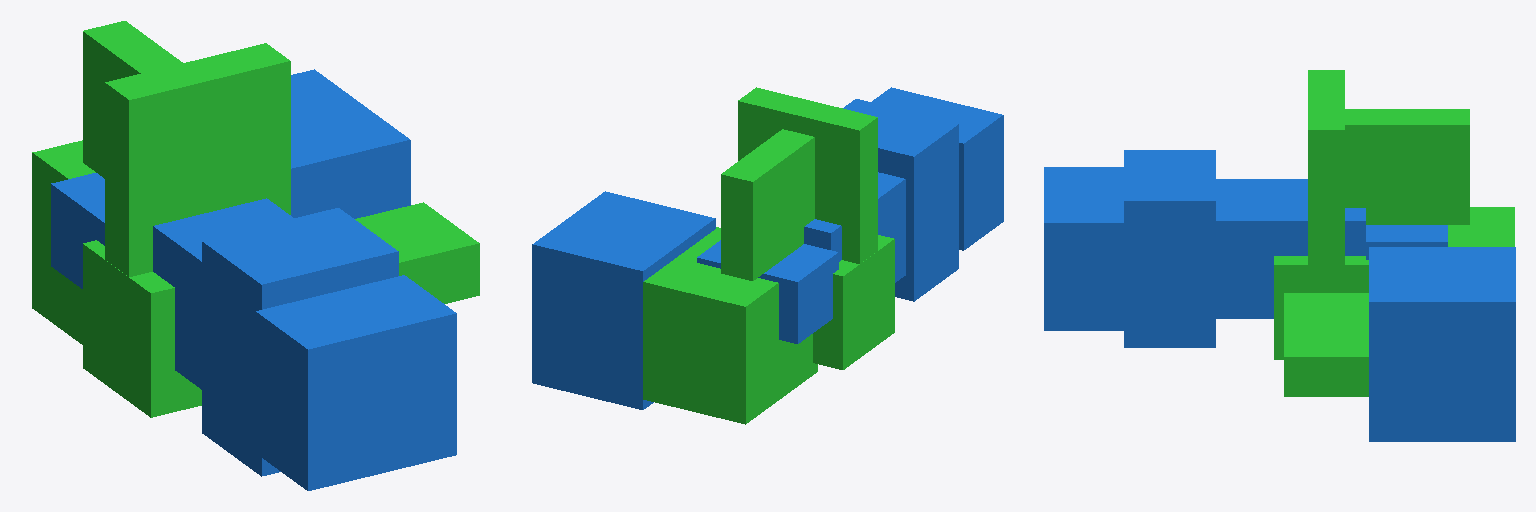
robot.urdf — robot:
<robot name = "robot">
    <link name="Link0">
        <inertial>
            <origin xyz="0 0 2" rpy="0 0 0"/>
            <mass value="0.9914396320413821" />
            <inertia ixx="100" ixy="0" ixz="0" iyy="100" iyz="0" izz="100" />
        </inertial>
        <visual>
            <origin xyz="0 0 2" rpy="0 0 0"/>
            <geometry>
                <box size="0.9045375346228315 1.1042582098426466 0.9925880576965468" />
            </geometry>
            <material name="Sensor">
                <color rgba="0.239 0.875 0.282 1.0"/>
            </material>
        </visual>
        <collision>
            <origin xyz="0 0 2" rpy="0 0 0"/>
            <geometry>
                <box size="0.9045375346228315 1.1042582098426466 0.9925880576965468" />
            </geometry>
        </collision>
    </link>
    <joint name="Link0_Link1" type="revolute">
       <parent link="Link0"/>
       <child  link="Link1"/>
       <origin rpy="0 0 0" xyz="0.45226876731141574 0 2" />
       <axis xyz="1 0 0"/>
       <limit effort="0.0" lower="-3.14159" upper="3.14159" velocity="0.0"/>
    </joint>
    <link name="Link1">
        <inertial>
            <origin xyz="0.48855059420183844 0 0" rpy="0 0 0"/>
            <mass value="1.2708323924499392" />
            <inertia ixx="100" ixy="0" ixz="0" iyy="100" iyz="0" izz="100" />
        </inertial>
        <visual>
            <origin xyz="0.48855059420183844 0 0" rpy="0 0 0"/>
            <geometry>
                <box size="0.9771011884036769 1.1087907562669648 1.1730030407536653" />
            </geometry>
            <material name="No Sensor">
                <color rgba="0.184 0.553 0.933 1.0"/>
            </material>
        </visual>
        <collision>
            <origin xyz="0.48855059420183844 0 0" rpy="0 0 0"/>
            <geometry>
                <box size="0.9771011884036769 1.1087907562669648 1.1730030407536653" />
            </geometry>
        </collision>
    </link>
    <joint name="Link1_Link2" type="revolute">
       <parent link="Link1"/>
       <child  link="Link2"/>
       <origin rpy="0 0 0" xyz="0.48855059420183844 -0.5543953781334824 0.0" />
       <axis xyz="1 0 0"/>
       <limit effort="0.0" lower="-3.14159" upper="3.14159" velocity="0.0"/>
    </joint>
    <link name="Link2">
        <inertial>
            <origin xyz="0.0 -0.32287513078259034 0.0" rpy="0 0 0"/>
            <mass value="0.24849625987360338" />
            <inertia ixx="100" ixy="0" ixz="0" iyy="100" iyz="0" izz="100" />
        </inertial>
        <visual>
            <origin xyz="0.0 -0.32287513078259034 0.0" rpy="0 0 0"/>
            <geometry>
                <box size="1.1520760015248446 0.6457502615651807 0.3340212797987252" />
            </geometry>
            <material name="Sensor">
                <color rgba="0.239 0.875 0.282 1.0"/>
            </material>
        </visual>
        <collision>
            <origin xyz="0.0 -0.32287513078259034 0.0" rpy="0 0 0"/>
            <geometry>
                <box size="1.1520760015248446 0.6457502615651807 0.3340212797987252" />
            </geometry>
        </collision>
    </link>
    <joint name="Link2_Link3" type="revolute">
       <parent link="Link2"/>
       <child  link="Link3"/>
       <origin rpy="0 0 0" xyz="-0.5760380007624223 -0.32287513078259034 0.0" />
       <axis xyz="0 1 0"/>
       <limit effort="0.0" lower="-3.14159" upper="3.14159" velocity="0.0"/>
    </joint>
    <link name="Link3">
        <inertial>
            <origin xyz="-0.5397868592290745 0.0 0.0" rpy="0 0 0"/>
            <mass value="0.6746190000611122" />
            <inertia ixx="100" ixy="0" ixz="0" iyy="100" iyz="0" izz="100" />
        </inertial>
        <visual>
            <origin xyz="-0.5397868592290745 0.0 0.0" rpy="0 0 0"/>
            <geometry>
                <box size="1.079573718458149 0.7889315533076343 0.792076154739123" />
            </geometry>
            <material name="Sensor">
                <color rgba="0.239 0.875 0.282 1.0"/>
            </material>
        </visual>
        <collision>
            <origin xyz="-0.5397868592290745 0.0 0.0" rpy="0 0 0"/>
            <geometry>
                <box size="1.079573718458149 0.7889315533076343 0.792076154739123" />
            </geometry>
        </collision>
    </link>
    <joint name="Link3_Link4" type="revolute">
       <parent link="Link3"/>
       <child  link="Link4"/>
       <origin rpy="0 0 0" xyz="-0.5397868592290745 0.0 0.3960380773695615" />
       <axis xyz="0 1 0"/>
       <limit effort="0.0" lower="-3.14159" upper="3.14159" velocity="0.0"/>
    </joint>
    <link name="Link4">
        <inertial>
            <origin xyz="0.0 0.0 0.5639802093625783" rpy="0 0 0"/>
            <mass value="0.34197779045058574" />
            <inertia ixx="100" ixy="0" ixz="0" iyy="100" iyz="0" izz="100" />
        </inertial>
        <visual>
            <origin xyz="0.0 0.0 0.5639802093625783" rpy="0 0 0"/>
            <geometry>
                <box size="1.0751753305664196 0.2819841843757739 1.1279604187251566" />
            </geometry>
            <material name="Sensor">
                <color rgba="0.239 0.875 0.282 1.0"/>
            </material>
        </visual>
        <collision>
            <origin xyz="0.0 0.0 0.5639802093625783" rpy="0 0 0"/>
            <geometry>
                <box size="1.0751753305664196 0.2819841843757739 1.1279604187251566" />
            </geometry>
        </collision>
    </link>
    <joint name="Link4_Link5" type="revolute">
       <parent link="Link4"/>
       <child  link="Link5"/>
       <origin rpy="0 0 0" xyz="0.0 0.14099209218788694 0.5639802093625783" />
       <axis xyz="1 0 0"/>
       <limit effort="0.0" lower="-3.14159" upper="3.14159" velocity="0.0"/>
    </joint>
    <link name="Link5">
        <inertial>
            <origin xyz="0.0 0.47159727918919403 0.0" rpy="0 0 0"/>
            <mass value="0.22483547274269802" />
            <inertia ixx="100" ixy="0" ixz="0" iyy="100" iyz="0" izz="100" />
        </inertial>
        <visual>
            <origin xyz="0.0 0.47159727918919403 0.0" rpy="0 0 0"/>
            <geometry>
                <box size="0.2846340013377203 0.9431945583783881 0.8374844793504092" />
            </geometry>
            <material name="Sensor">
                <color rgba="0.239 0.875 0.282 1.0"/>
            </material>
        </visual>
        <collision>
            <origin xyz="0.0 0.47159727918919403 0.0" rpy="0 0 0"/>
            <geometry>
                <box size="0.2846340013377203 0.9431945583783881 0.8374844793504092" />
            </geometry>
        </collision>
    </link>
    <joint name="Link5_Link6" type="revolute">
       <parent link="Link5"/>
       <child  link="Link6"/>
       <origin rpy="0 0 0" xyz="0.0 0.47159727918919403 -0.4187422396752046" />
       <axis xyz="1 0 0"/>
       <limit effort="0.0" lower="-3.14159" upper="3.14159" velocity="0.0"/>
    </joint>
    <link name="Link6">
        <inertial>
            <origin xyz="0.0 0.0 -0.26273101332505205" rpy="0 0 0"/>
            <mass value="0.29243170145542086" />
            <inertia ixx="100" ixy="0" ixz="0" iyy="100" iyz="0" izz="100" />
        </inertial>
        <visual>
            <origin xyz="0.0 0.0 -0.26273101332505205" rpy="0 0 0"/>
            <geometry>
                <box size="0.8917491808335967 0.6240801877382561 0.5254620266501041" />
            </geometry>
            <material name="No Sensor">
                <color rgba="0.184 0.553 0.933 1.0"/>
            </material>
        </visual>
        <collision>
            <origin xyz="0.0 0.0 -0.26273101332505205" rpy="0 0 0"/>
            <geometry>
                <box size="0.8917491808335967 0.6240801877382561 0.5254620266501041" />
            </geometry>
        </collision>
    </link>
    <joint name="Link6_Link7" type="revolute">
       <parent link="Link6"/>
       <child  link="Link7"/>
       <origin rpy="0 0 0" xyz="0.0 -0.31204009386912807 -0.26273101332505205" />
       <axis xyz="0 1 0"/>
       <limit effort="0.0" lower="-3.14159" upper="3.14159" velocity="0.0"/>
    </joint>
    <link name="Link7">
        <inertial>
            <origin xyz="0.0 -0.5679115585748608 0.0" rpy="0 0 0"/>
            <mass value="0.7032312213414064" />
            <inertia ixx="100" ixy="0" ixz="0" iyy="100" iyz="0" izz="100" />
        </inertial>
        <visual>
            <origin xyz="0.0 -0.5679115585748608 0.0" rpy="0 0 0"/>
            <geometry>
                <box size="0.7594085814387623 1.1358231171497215 0.8152896703655683" />
            </geometry>
            <material name="No Sensor">
                <color rgba="0.184 0.553 0.933 1.0"/>
            </material>
        </visual>
        <collision>
            <origin xyz="0.0 -0.5679115585748608 0.0" rpy="0 0 0"/>
            <geometry>
                <box size="0.7594085814387623 1.1358231171497215 0.8152896703655683" />
            </geometry>
        </collision>
    </link>
    <joint name="Link7_Link8" type="revolute">
       <parent link="Link7"/>
       <child  link="Link8"/>
       <origin rpy="0 0 0" xyz="0.0 -1.1358231171497215 0.0" />
       <axis xyz="1 0 0"/>
       <limit effort="0.0" lower="-3.14159" upper="3.14159" velocity="0.0"/>
    </joint>
    <link name="Link8">
        <inertial>
            <origin xyz="0.0 -0.3456896154767504 0.0" rpy="0 0 0"/>
            <mass value="0.771575732090519" />
            <inertia ixx="100" ixy="0" ixz="0" iyy="100" iyz="0" izz="100" />
        </inertial>
        <visual>
            <origin xyz="0.0 -0.3456896154767504 0.0" rpy="0 0 0"/>
            <geometry>
                <box size="0.9131488914643168 0.6913792309535008 1.2221390871214521" />
            </geometry>
            <material name="No Sensor">
                <color rgba="0.184 0.553 0.933 1.0"/>
            </material>
        </visual>
        <collision>
            <origin xyz="0.0 -0.3456896154767504 0.0" rpy="0 0 0"/>
            <geometry>
                <box size="0.9131488914643168 0.6913792309535008 1.2221390871214521" />
            </geometry>
        </collision>
    </link>
    <joint name="Link8_Link9" type="revolute">
       <parent link="Link8"/>
       <child  link="Link9"/>
       <origin rpy="0 0 0" xyz="0.0 -0.6913792309535008 0.0" />
       <axis xyz="1 0 0"/>
       <limit effort="0.0" lower="-3.14159" upper="3.14159" velocity="0.0"/>
    </joint>
    <link name="Link9">
        <inertial>
            <origin xyz="0.0 -0.3024512554253867 0.0" rpy="0 0 0"/>
            <mass value="0.5424613501548606" />
            <inertia ixx="100" ixy="0" ixz="0" iyy="100" iyz="0" izz="100" />
        </inertial>
        <visual>
            <origin xyz="0.0 -0.3024512554253867 0.0" rpy="0 0 0"/>
            <geometry>
                <box size="0.9925224523517098 0.6049025108507734 0.9035310326636594" />
            </geometry>
            <material name="No Sensor">
                <color rgba="0.184 0.553 0.933 1.0"/>
            </material>
        </visual>
        <collision>
            <origin xyz="0.0 -0.3024512554253867 0.0" rpy="0 0 0"/>
            <geometry>
                <box size="0.9925224523517098 0.6049025108507734 0.9035310326636594" />
            </geometry>
        </collision>
    </link>
</robot>

--- What the picture shows (computed from the rendered views, not written in the file) ---
The picture shows the robot from 3 angles, left to right: view 1: azimuth 30°, elevation 25°; view 2: azimuth 150°, elevation 25°; view 3: azimuth 270°, elevation 25°; orthographic projection.
Robot: robot — 10 links, 9 joints (9 revolute); root link Link0; default pose: every joint at zero.
Links seen in each view (by area): view 1: Link9, Link4, Link8, Link1, Link3, Link7, Link2, Link0, Link5, Link6; view 2: Link1, Link0, Link4, Link8, Link5, Link9, Link3, Link6, Link7; view 3: Link1, Link8, Link5, Link9, Link7, Link2, Link4, Link3, Link0, Link6.
Link boxes in pixels (x1=…): Link9: x1=256, y1=275, x2=456, y2=490; Link4: x1=105, y1=43, x2=290, y2=276; Link8: x1=202, y1=208, x2=398, y2=476; Link1: x1=291, y1=69, x2=410, y2=218; Link3: x1=83, y1=240, x2=201, y2=417; Link7: x1=153, y1=198, x2=293, y2=389; Link2: x1=355, y1=202, x2=479, y2=303; Link0: x1=32, y1=140, x2=95, y2=344; Link5: x1=83, y1=21, x2=182, y2=178; Link6: x1=51, y1=173, x2=104, y2=288; Link1: x1=532, y1=191, x2=715, y2=409; Link0: x1=643, y1=229, x2=817, y2=424; Link4: x1=738, y1=87, x2=877, y2=263; Link8: x1=843, y1=99, x2=958, y2=301; Link5: x1=721, y1=129, x2=814, y2=280; Link9: x1=872, y1=87, x2=1003, y2=250; Link3: x1=813, y1=235, x2=894, y2=369; Link6: x1=697, y1=240, x2=838, y2=343; Link7: x1=804, y1=172, x2=905, y2=282; Link1: x1=1369, y1=247, x2=1515, y2=441; Link8: x1=1124, y1=150, x2=1215, y2=347; Link5: x1=1345, y1=109, x2=1469, y2=224; Link9: x1=1044, y1=167, x2=1123, y2=330; Link7: x1=1216, y1=179, x2=1365, y2=318; Link2: x1=1284, y1=293, x2=1368, y2=396; Link4: x1=1308, y1=70, x2=1344, y2=264; Link3: x1=1274, y1=256, x2=1368, y2=359; Link0: x1=1448, y1=207, x2=1514, y2=246; Link6: x1=1366, y1=225, x2=1447, y2=259.
Size in the robot's own frame: 2.23 by 3.56 by 2.11 metres.
Geometry: primitives only (box / cylinder / sphere), no mesh files.
